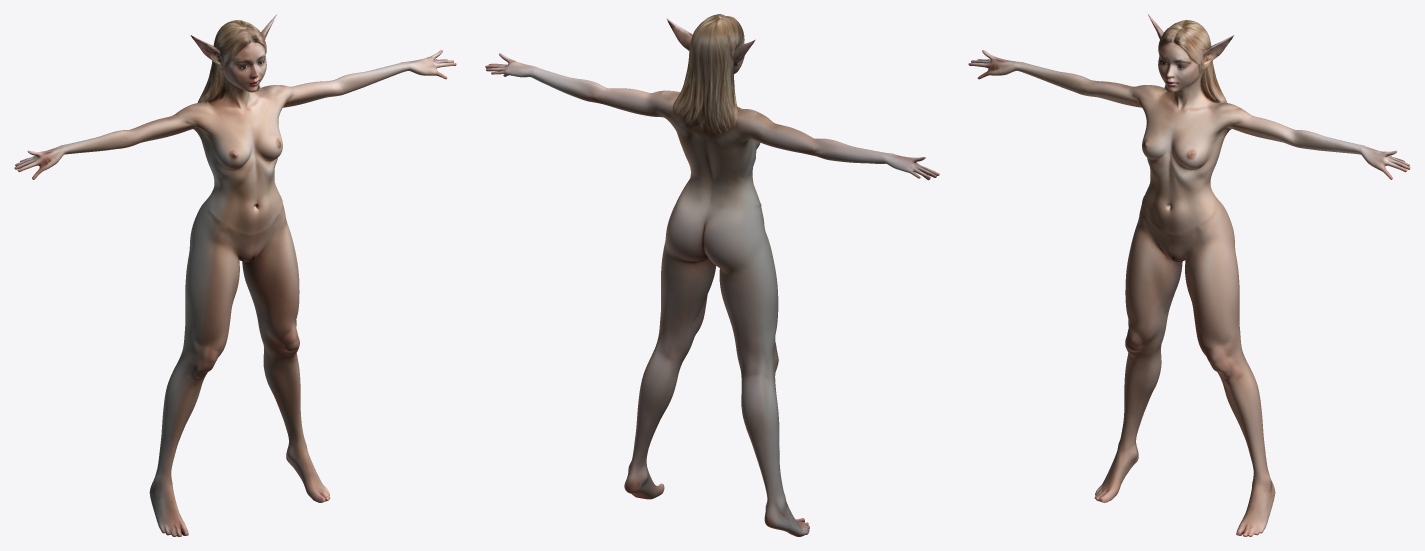
File: base_basic_pbr.fbx
The picture shows the model from 3 angles, left to right: view 1: azimuth 30°, elevation 25°; view 2: azimuth 150°, elevation 25°; view 3: azimuth 330°, elevation 25°; orthographic projection. The views are drawn at different scales.
Visible parts, largest first — view 1: model; view 2: model; view 3: model.
Part boxes in pixels (x1,y1,x2,y2): model: (14, 14, 456, 536); model: (485, 14, 939, 536); model: (968, 14, 1410, 536).
Size of the model in its own units: 162 by 172 by 23.18.
Materials: 1 (1 with a texture image).
